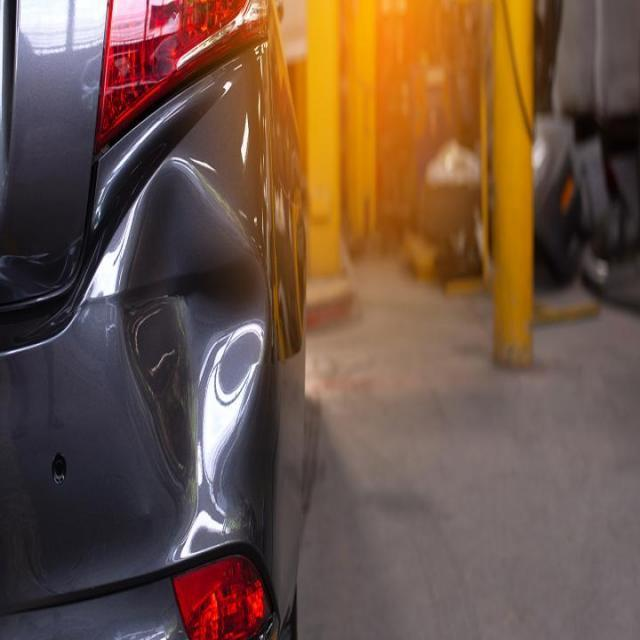dent: (107, 156, 271, 541)
